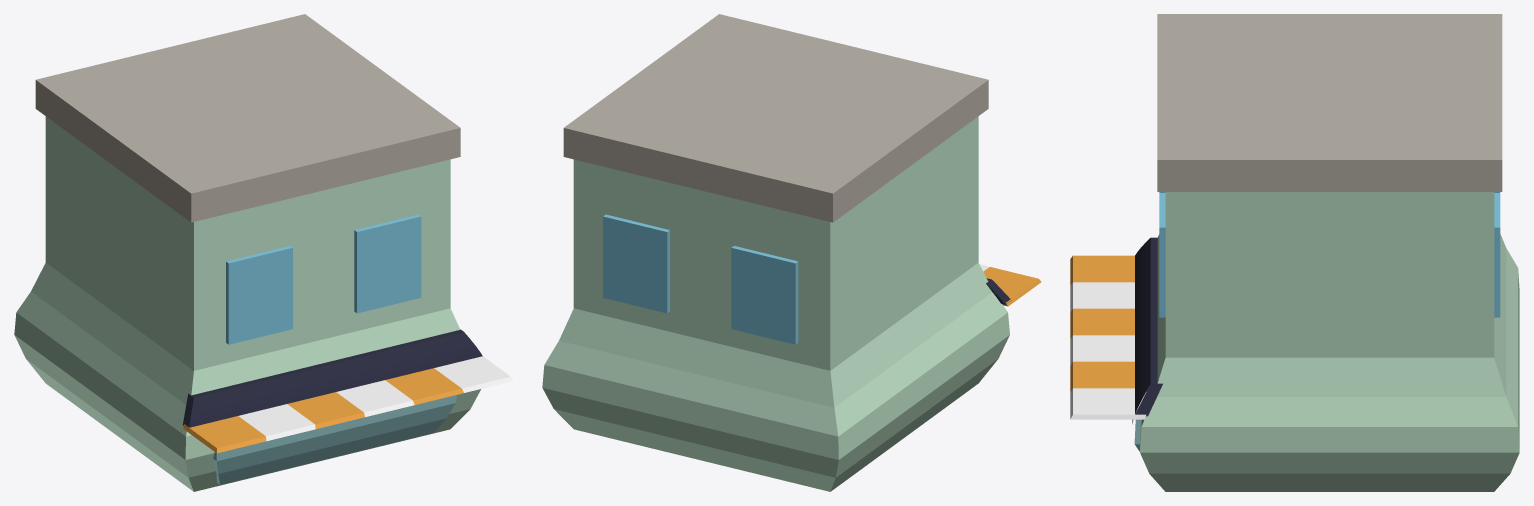
The model's file is shop.glb.
The picture shows the model from 3 angles, left to right: view 1: azimuth 30°, elevation 25°; view 2: azimuth 150°, elevation 25°; view 3: azimuth 270°, elevation 25°; orthographic projection. The views are drawn at different scales.
Parts seen in each view (by area): view 1: shop_wall_mint, shop_roof_flat, shop_window, shop_black, shop_glass, shop_awning, shop_white; view 2: shop_wall_mint, shop_roof_flat, shop_window, shop_awning; view 3: shop_wall_mint, shop_roof_flat, shop_white, shop_awning, shop_black, shop_window.
Boxes of the visible parts, x1=… form: shop_wall_mint: x1=14, y1=116, x2=480, y2=491; shop_roof_flat: x1=35, y1=14, x2=460, y2=222; shop_window: x1=226, y1=214, x2=421, y2=344; shop_black: x1=183, y1=329, x2=482, y2=429; shop_glass: x1=213, y1=395, x2=456, y2=484; shop_awning: x1=183, y1=368, x2=463, y2=453; shop_white: x1=238, y1=356, x2=513, y2=441; shop_wall_mint: x1=542, y1=116, x2=1009, y2=491; shop_roof_flat: x1=563, y1=14, x2=988, y2=222; shop_window: x1=603, y1=214, x2=798, y2=344; shop_awning: x1=983, y1=267, x2=1041, y2=306; shop_wall_mint: x1=1140, y1=192, x2=1519, y2=491; shop_roof_flat: x1=1157, y1=14, x2=1502, y2=191; shop_white: x1=1070, y1=282, x2=1146, y2=419; shop_awning: x1=1070, y1=255, x2=1134, y2=392; shop_black: x1=1135, y1=237, x2=1162, y2=416; shop_window: x1=1159, y1=192, x2=1500, y2=317.
Bounding box in the file's own units: 9.62 × 9.38 × 11.38.
